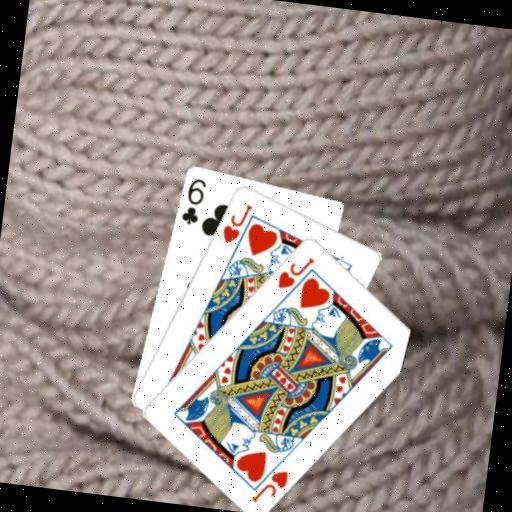6C: (177, 174, 209, 228)
JH: (274, 250, 318, 294), (248, 464, 291, 508), (218, 199, 254, 248)
